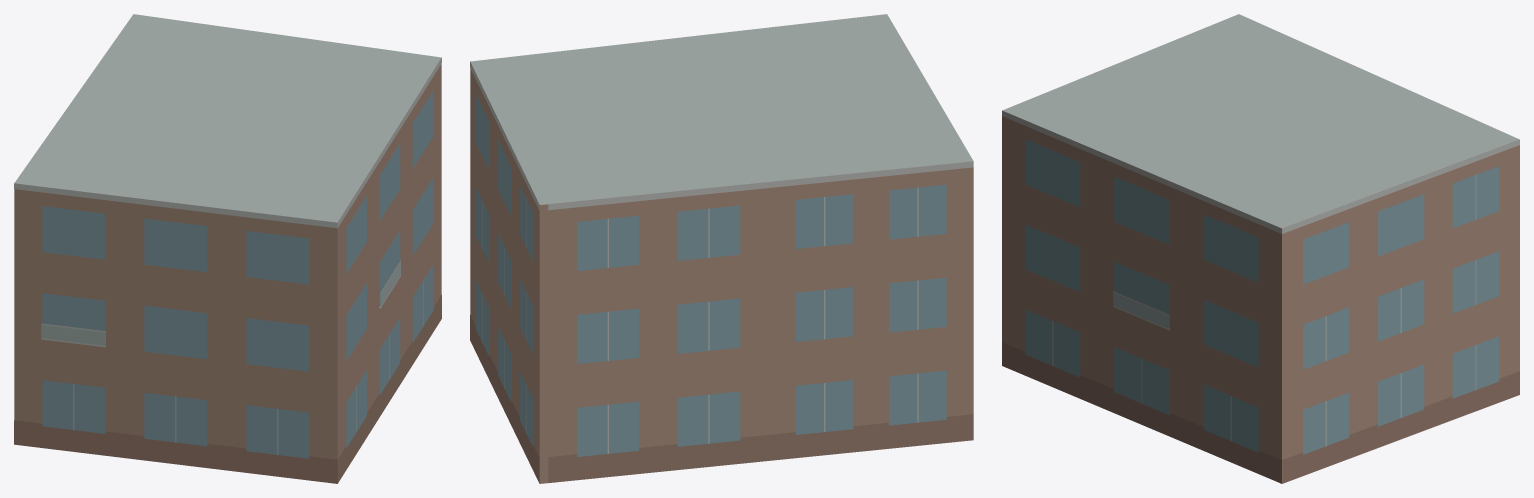
File: survey-upis-32987279.glb
The picture shows the model from 3 angles, left to right: view 1: azimuth 30°, elevation 25°; view 2: azimuth 150°, elevation 25°; view 3: azimuth 270°, elevation 25°; orthographic projection. The views are drawn at different scales.
Visible parts, largest first — view 1: survey-upis-32987279.tmp; view 2: survey-upis-32987279.tmp; view 3: survey-upis-32987279.tmp.
Part boxes in pixels (x1=…): survey-upis-32987279.tmp: x1=14, y1=14, x2=441, y2=483; survey-upis-32987279.tmp: x1=470, y1=14, x2=973, y2=483; survey-upis-32987279.tmp: x1=1002, y1=14, x2=1519, y2=483.
Bounding box in the file's own units: 20.18 × 11.2 × 20.59.
